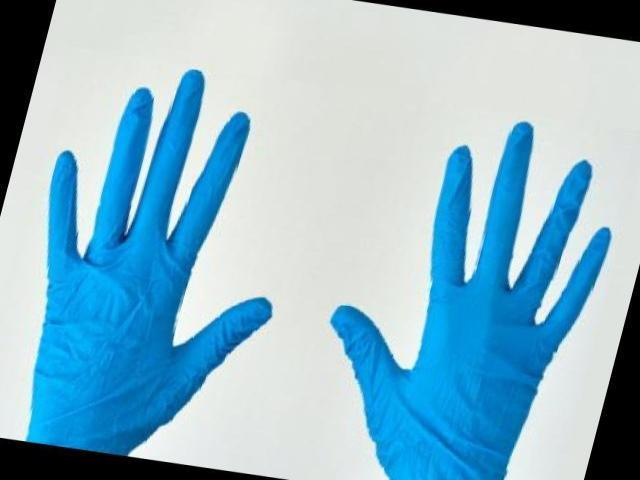Hand-in-Glove: (0, 50, 349, 473), (297, 98, 640, 480)
